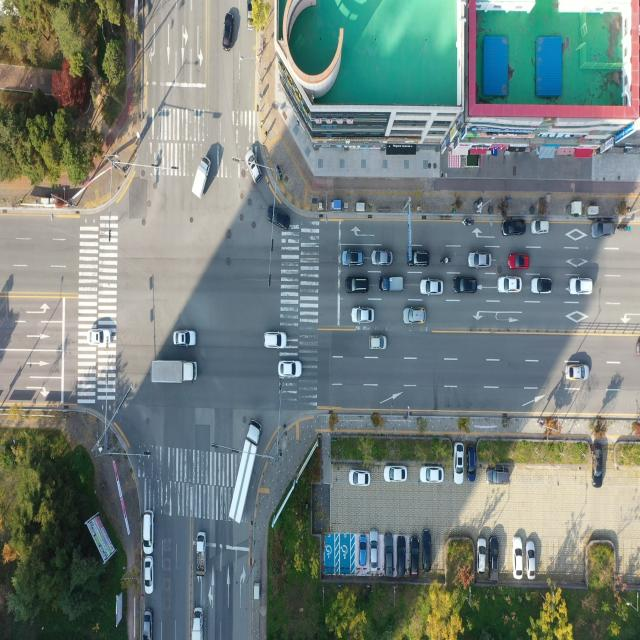car: (244, 148, 262, 185), (590, 443, 604, 488), (488, 535, 500, 583), (89, 330, 118, 349), (384, 463, 408, 485), (485, 466, 510, 486), (269, 208, 291, 230), (475, 534, 486, 577), (404, 308, 427, 327), (568, 278, 592, 296), (369, 526, 378, 574), (384, 534, 394, 577), (222, 12, 233, 51), (396, 536, 406, 578), (279, 360, 302, 378), (174, 331, 197, 349), (381, 276, 404, 294), (144, 513, 154, 554), (565, 363, 589, 380), (454, 444, 464, 484), (454, 278, 476, 296), (265, 333, 287, 351), (342, 250, 365, 267), (499, 277, 522, 294), (420, 466, 443, 483), (515, 537, 524, 579), (467, 441, 476, 482), (591, 222, 614, 238), (350, 469, 370, 487), (421, 279, 442, 296), (531, 278, 552, 295), (470, 252, 492, 268), (504, 220, 526, 236), (411, 535, 420, 574), (144, 558, 153, 596), (352, 309, 373, 325), (510, 253, 529, 270), (373, 250, 393, 266), (348, 278, 368, 294), (527, 540, 535, 580), (192, 607, 202, 639), (411, 250, 430, 266), (142, 610, 152, 640), (358, 536, 366, 568), (371, 337, 388, 352), (531, 220, 548, 233)
medium_truck: (226, 417, 266, 525)
small_truck: (151, 358, 197, 384), (191, 156, 213, 198), (195, 531, 208, 577)
